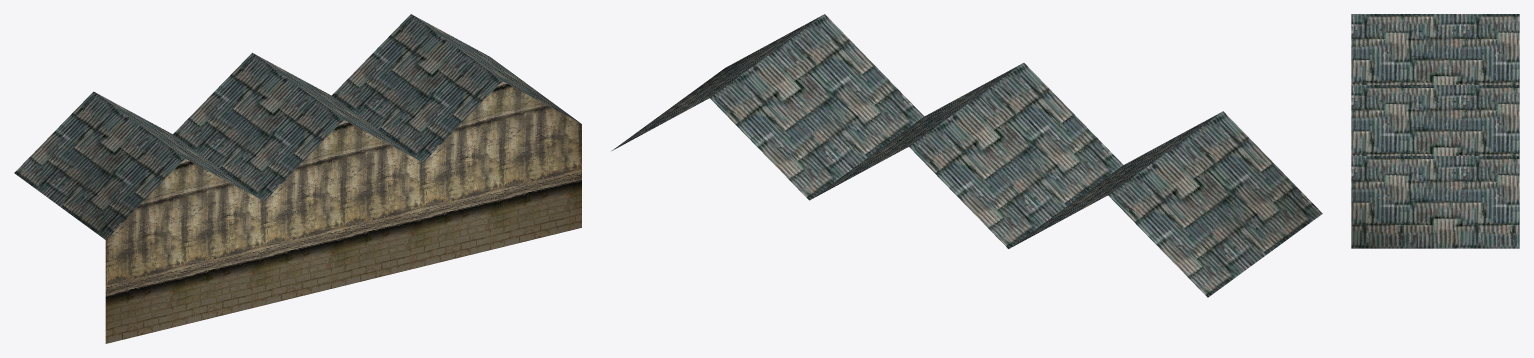
File: M10_Z02_14_WareHouses.glb
The picture shows the model from 3 angles, left to right: view 1: azimuth 30°, elevation 25°; view 2: azimuth 150°, elevation 25°; view 3: azimuth 270°, elevation 25°; orthographic projection. The views are drawn at different scales.
Visible parts, largest first — view 1: M10_Z02_14_WAREHOUSES; view 2: M10_Z02_14_WAREHOUSES; view 3: M10_Z02_14_WAREHOUSES.
Part boxes in pixels (x1,y1,x2,y2): M10_Z02_14_WAREHOUSES: (14, 14, 581, 343); M10_Z02_14_WAREHOUSES: (612, 14, 1322, 297); M10_Z02_14_WAREHOUSES: (1351, 14, 1519, 248).
Bounding box in the file's own units: 24.01 × 8 × 8.
2 materials, 2 textured.
